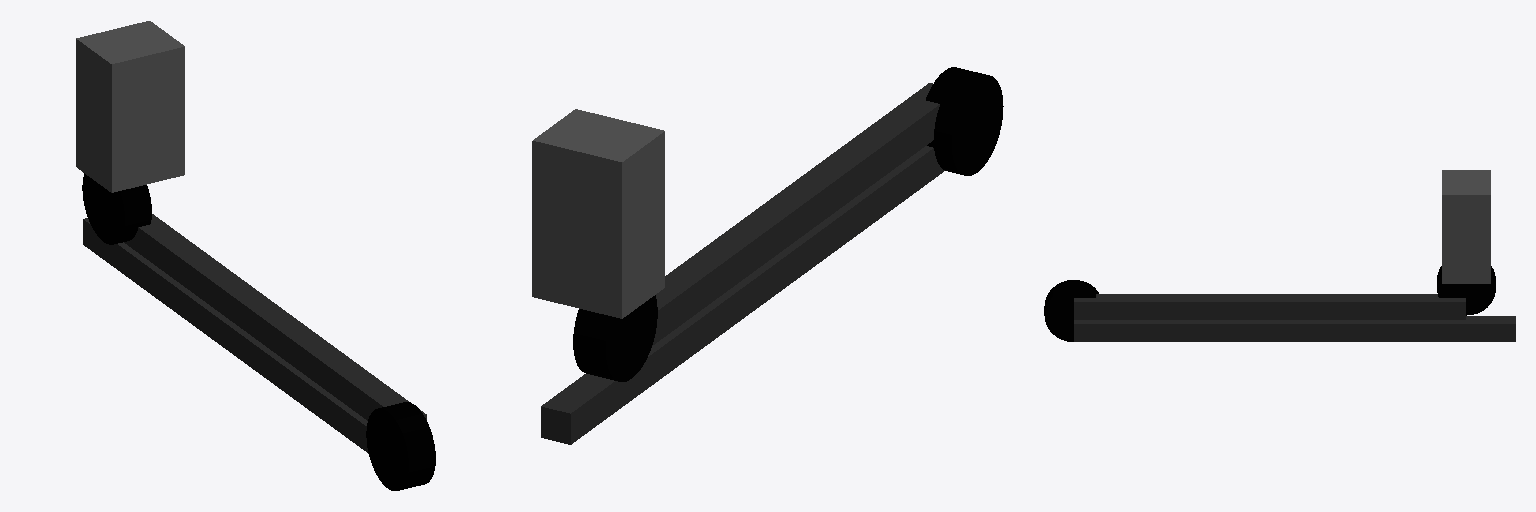
URDF robot description (truck_panda):
<?xml version='1.0' encoding='utf-8'?>
<robot name="truck_panda">


    <link name="base">
      <inertial>
        <origin xyz="0 0 0" rpy="0 0 0" />
        <mass value="4" />
        <inertia ixx="0.4" iyy="0.4" izz="0.4" ixy="0" ixz="0" iyz="0" />
      </inertial>
    </link>
    
    <link name="truck_base">
      <inertial>
        <origin xyz="0 0 0" rpy="0 0 0" />
        <mass value="400" />
        <inertia ixx="40" iyy="40" izz="40" ixy="0" ixz="0" iyz="0" />
      </inertial>
      <visual>
        <geometry>
          <mesh filename="../../../Model/objects/Truck/truck_base.obj"/>
          <!-- <mesh filename="../../../Model/objects/Truck/cubes.obj"/> -->
        </geometry>
      </visual>
    </link>

    <link name="virtual_1">
      <inertial>
        <origin xyz="0 0 0" rpy="0 0 0" />
        <mass value="0.000001" />
        <inertia ixx="0.00001" iyy="0.00001" izz="0.00001" ixy="0" ixz="0" iyz="0" />
      </inertial>
    </link>

    <link name="first_bar">
      <inertial>
        <origin xyz="0 0 0" rpy="0 0 0" />
        <mass value="5" />
        <inertia ixx="1" iyy="1" izz="1" ixy="0" ixz="0" iyz="0" />
      </inertial>
      <visual>
        <origin xyz="0 -2.25 0" rpy="0 0 0" />
        <geometry>
          <box size="0.2 4.5 0.2"/>
        </geometry>
        <material name="material_bar">
          <color rgba="0.2 0.2 0.2 1.0" />
      </material>
      </visual>
      <visual>
        <origin xyz="-0.11 -4.5 0.15" rpy="0 1.57079632679 0" />
        <geometry>
          <cylinder radius="0.30" length="0.22"/>
        </geometry>
        <material name="material_bar">
          <color rgba="0.01 0.01 0.01 1.0" />
      </material>
      </visual>
    </link>

    <link name="second_bar">
      <inertial>
        <origin xyz="0 0 0" rpy="0 0 0" />
        <mass value="5" />
        <inertia ixx="1" iyy="1" izz="1" ixy="0" ixz="0" iyz="0" />
      </inertial>
      <visual>
        <origin xyz="0 2 0.1" rpy="0 0 0" />
        <geometry>
          <box size="0.2 4 0.2"/>
        </geometry>
        <material name="material_bar">
          <color rgba="0.2 0.2 0.2 1.0" />
      </material>
      </visual>
      <visual>
        <origin xyz="-0.11 4 0.3" rpy="0 1.57079632679 0" />
        <geometry>
          <cylinder radius="0.30" length="0.22"/>
        </geometry>
        <material name="material_bar">
          <color rgba="0.01 0.01 0.01 1.0" />
      </material>
      </visual>
    </link>

    <link name="virtual_bucket">
      <inertial>
        <origin xyz="0 0 0" rpy="0 0 0" />
        <mass value="0.0001" />
        <inertia ixx="0.0001" iyy="0.0001" izz="0.0001" ixy="0" ixz="0" iyz="0" />
      </inertial>
    </link>

    <link name="basket">
      <inertial>
        <origin xyz="0 0 0" rpy="0 0 0" />
        <mass value="5" />
        <inertia ixx="1" iyy="1" izz="1" ixy="0" ixz="0" iyz="0" />
      </inertial>
      <visual>
        <origin xyz="0 0 0.7" rpy="0 0 0" />
        <geometry>
          <box size="0.6 0.5 1.0"/>
        </geometry>
        <material name="material_basket">
          <color rgba="0.35 0.35 0.35 1.0" />
      </material>
      </visual>
    </link>

<!--   LEFT ARM     -->

    <link name="left_arm_link1">
      <inertial>
        <origin xyz="0 0 -0.07" rpy="0 -0 0" />
        <mass value="3" />
        <inertia ixx="0.3" iyy="0.3" izz="0.3" ixy="0" ixz="0" iyz="0" />
      </inertial>
      <visual>
        <geometry>
          <mesh filename="../../../Model/meshes/visual/link1.obj"/>
        </geometry>
      </visual>
    </link>
    <link name="left_arm_link2">
      <inertial>
        <origin xyz="0 -0.1 0" rpy="0 -0 0" />
        <mass value="3" />
        <inertia ixx="0.3" iyy="0.3" izz="0.3" ixy="0" ixz="0" iyz="0" />
      </inertial>
      <visual>
        <geometry>
          <mesh filename="../../../Model/meshes/visual/link2.obj"/>
        </geometry>
      </visual>
    </link>
    <link name="left_arm_link3">
      <inertial>
        <origin xyz="0.04 0 -0.05" rpy="0 -0 0" />
        <mass value="2" />
        <inertia ixx="0.2" iyy="0.2" izz="0.2" ixy="0" ixz="0" iyz="0" />
      </inertial>
      <visual>
        <geometry>
          <mesh filename="../../../Model/meshes/visual/link3.obj"/>
        </geometry>
      </visual>
    </link>
    <link name="left_arm_link4">
      <inertial>
        <origin xyz="-0.04 0.05 0" rpy="0 -0 0" />
        <mass value="2" />
        <inertia ixx="0.2" iyy="0.2" izz="0.2" ixy="0" ixz="0" iyz="0" />
      </inertial>
      <visual>
        <geometry>
          <mesh filename="../../../Model/meshes/visual/link4.obj"/>
        </geometry>
      </visual>
    </link>
    <link name="left_arm_link5">
      <inertial>
        <origin xyz="0 0 -0.15" rpy="0 -0 0" />
        <mass value="2" />
        <inertia ixx="0.2" iyy="0.2" izz="0.2" ixy="0" ixz="0" iyz="0" />
      </inertial>
      <visual>
        <geometry>
          <mesh filename="../../../Model/meshes/visual/link5.obj"/>
        </geometry>
      </visual>
    </link>
    <link name="left_arm_link6">
      <inertial>
        <origin xyz="0.06 0 0" rpy="0 -0 0" />
        <mass value="1.5" />
        <inertia ixx="0.1" iyy="0.1" izz="0.1" ixy="0" ixz="0" iyz="0" />
      </inertial>
      <visual>
        <geometry>
          <mesh filename="../../../Model/meshes/visual/link6.obj"/>
        </geometry>
      </visual>
    </link>
    <link name="left_arm_link7">
      <inertial>
        <origin xyz="0 0 0.17" rpy="0 -0 0" />
        <mass value="1.8" />
        <inertia ixx="0.09" iyy="0.05" izz="0.07" ixy="0" ixz="0" iyz="0" />
      </inertial>
      <visual>
        <geometry>
          <mesh filename="../../../Model/meshes/visual/link7.obj"/>
        </geometry>
      </visual>
    </link>

<!--   RIGHT ARM     -->

    <link name="right_arm_link1">
      <inertial>
        <origin xyz="0 0 -0.07" rpy="0 -0 0" />
        <mass value="3" />
        <inertia ixx="0.3" iyy="0.3" izz="0.3" ixy="0" ixz="0" iyz="0" />
      </inertial>
      <visual>
        <geometry>
          <mesh filename="../../../Model/meshes/visual/link1.obj"/>
        </geometry>
      </visual>
    </link>
    <link name="right_arm_link2">
      <inertial>
        <origin xyz="0 -0.1 0" rpy="0 -0 0" />
        <mass value="3" />
        <inertia ixx="0.3" iyy="0.3" izz="0.3" ixy="0" ixz="0" iyz="0" />
      </inertial>
      <visual>
        <geometry>
          <mesh filename="../../../Model/meshes/visual/link2.obj"/>
        </geometry>
      </visual>
    </link>
    <link name="right_arm_link3">
      <inertial>
        <origin xyz="0.04 0 -0.05" rpy="0 -0 0" />
        <mass value="2" />
        <inertia ixx="0.2" iyy="0.2" izz="0.2" ixy="0" ixz="0" iyz="0" />
      </inertial>
      <visual>
        <geometry>
          <mesh filename="../../../Model/meshes/visual/link3.obj"/>
        </geometry>
      </visual>
    </link>
    <link name="right_arm_link4">
      <inertial>
        <origin xyz="-0.04 0.05 0" rpy="0 -0 0" />
        <mass value="2" />
        <inertia ixx="0.2" iyy="0.2" izz="0.2" ixy="0" ixz="0" iyz="0" />
      </inertial>
      <visual>
        <geometry>
          <mesh filename="../../../Model/meshes/visual/link4.obj"/>
        </geometry>
      </visual>
    </link>
    <link name="right_arm_link5">
      <inertial>
        <origin xyz="0 0 -0.15" rpy="0 -0 0" />
        <mass value="2" />
        <inertia ixx="0.2" iyy="0.2" izz="0.2" ixy="0" ixz="0" iyz="0" />
      </inertial>
      <visual>
        <geometry>
          <mesh filename="../../../Model/meshes/visual/link5.obj"/>
        </geometry>
      </visual>
    </link>
    <link name="right_arm_link6">
      <inertial>
        <origin xyz="0.06 0 0" rpy="0 -0 0" />
        <mass value="1.5" />
        <inertia ixx="0.1" iyy="0.1" izz="0.1" ixy="0" ixz="0" iyz="0" />
      </inertial>
      <visual>
        <geometry>
          <mesh filename="../../../Model/meshes/visual/link6.obj"/>
        </geometry>
      </visual>
    </link>
    <link name="right_arm_link7">
      <inertial>
        <origin xyz="0 0 0.17" rpy="0 -0 0" />
        <mass value="1.8" />
        <inertia ixx="0.09" iyy="0.05" izz="0.07" ixy="0" ixz="0" iyz="0" />
      </inertial>
      <visual>
        <geometry>
          <mesh filename="../../../Model/meshes/visual/link7.obj"/>
        </geometry>
      </visual>
    </link>


<!--    JOINTS     -->
    <joint name="driving" type="prismatic">
      <safety_controller k_position="100.0" k_velocity="40.0" soft_lower_limit="-2.8973" soft_upper_limit="2.8973"/>
      <origin rpy="0 0 0" xyz="0 0 0"/>
      <parent link="base"/>
      <child link="truck_base"/>
      <axis xyz="0 1 0"/>
      <calibration rising="10" />
      <limit effort="87" lower="-2.8973" upper="2.8973" velocity="2.1750"/>
    </joint>

    <joint name="r1_truck" type="revolute">
      <origin rpy="0 0 0" xyz="2.85 6.35 2.4"/>
      <parent link="truck_base"/>
      <child link="virtual_1"/>
      <axis xyz="0 0 1"/>
      <limit effort="87" lower="-2.8973" upper="2.8973" velocity="2.1750"/>
    </joint>

    <joint name="r2_truck" type="revolute">
      <origin rpy="0 0 0" xyz="0 0 0"/>
      <parent link="virtual_1"/>
      <child link="first_bar"/>
      <axis xyz="1 0 0"/>
      <calibration falling="-5.0" />
      <limit effort="87" lower="-2.8973" upper="2.8973" velocity="2.1750"/>
    </joint>

    <joint name="r3_truck" type="revolute">
      <origin rpy="0 0 0" xyz="0 -4.5 0.15"/>
      <parent link="first_bar"/>
      <child link="second_bar"/>
      <axis xyz="1 0 0"/>
      <!-- <calibration falling="5.0" /> -->
      <limit effort="87" lower="-2.8973" upper="2.8973" velocity="2.1750"/>
    </joint>

    <joint name="r4_truck" type="revolute">
      <origin rpy="0 0 0" xyz="0 4 0.3"/>
      <parent link="second_bar"/>
      <child link="virtual_bucket"/>
      <axis xyz="1 0 0"/>
      <calibration falling="5.0" />
      <limit effort="87" lower="-2.8973" upper="2.8973" velocity="2.1750"/>
    </joint>

    <joint name="r5_truck" type="revolute">
      <origin rpy="0 0 0" xyz="0 0 0"/>
      <parent link="virtual_bucket"/>
      <child link="basket"/>
      <axis xyz="0 0 1"/>
      <calibration falling="5.0" />
      <limit effort="87" lower="-2.8973" upper="2.8973" velocity="2.1750"/>
    </joint>

<!--   LEFT ARM JOINT     -->

    <joint name="left_arm_joint1" type="revolute">
      <safety_controller k_position="100.0" k_velocity="40.0" soft_lower_limit="-2.8973" soft_upper_limit="2.8973"/>
      <origin rpy="-1.57079632679 0 -1.57079632679" xyz="0.5 0.0 0.9"/>
      <parent link="basket"/>
      <child link="left_arm_link1"/>
      <axis xyz="0 0 1"/>
      <limit effort="87" lower="-2.8973" upper="2.8973" velocity="2.1750"/>
    </joint>
    <joint name="left_arm_joint2" type="revolute">
      <safety_controller k_position="100.0" k_velocity="40.0" soft_lower_limit="-1.7628" soft_upper_limit="1.7628"/>
      <origin rpy="-1.57079632679 0 0" xyz="0 0 0"/>
      <parent link="left_arm_link1"/>
      <child link="left_arm_link2"/>
      <axis xyz="0 0 1"/>
      <calibration falling="15.0" />
      <limit effort="87" lower="-1.7628" upper="1.7628" velocity="2.1750"/>
    </joint>
    <joint name="left_arm_joint3" type="revolute">
      <safety_controller k_position="100.0" k_velocity="40.0" soft_lower_limit="-2.8973" soft_upper_limit="2.8973"/>
      <origin rpy="1.57079632679 0 0" xyz="0 -0.316 0"/>
      <parent link="left_arm_link2"/>
      <child link="left_arm_link3"/>
      <axis xyz="0 0 1"/>
      <limit effort="87" lower="-2.8973" upper="2.8973" velocity="2.1750"/>
    </joint>
    <joint name="left_arm_joint4" type="revolute">
      <safety_controller k_position="100.0" k_velocity="40.0" soft_lower_limit="-3.0718" soft_upper_limit="-0.0698"/>
      <origin rpy="1.57079632679 0 0" xyz="0.0825 0 0"/>
      <parent link="left_arm_link3"/>
      <child link="left_arm_link4"/>
      <axis xyz="0 0 1"/>
      <calibration falling="-95.0" />
      <limit effort="87" lower="-3.0718" upper="-0.0698" velocity="2.1750"/>
    </joint>
    <joint name="left_arm_joint5" type="revolute">
      <safety_controller k_position="100.0" k_velocity="40.0" soft_lower_limit="-2.8973" soft_upper_limit="2.8973"/>
      <origin rpy="-1.57079632679 0 0" xyz="-0.0825 0.384 0"/>
      <parent link="left_arm_link4"/>
      <child link="left_arm_link5"/>
      <axis xyz="0 0 1"/>
      <limit effort="12" lower="-2.8973" upper="2.8973" velocity="2.6100"/>
    </joint>
    <joint name="left_arm_joint6" type="revolute">
      <safety_controller k_position="100.0" k_velocity="40.0" soft_lower_limit="-0.0175" soft_upper_limit="3.7525"/>
      <origin rpy="1.57079632679 0 0" xyz="0 0 0"/>
      <parent link="left_arm_link5"/>
      <child link="left_arm_link6"/>
      <axis xyz="0 0 1"/>
      <calibration falling="125.0" />
      <limit effort="12" lower="-0.0175" upper="3.7525" velocity="2.6100"/>
    </joint>
    <joint name="left_arm_joint7" type="revolute">
      <safety_controller k_position="100.0" k_velocity="40.0" soft_lower_limit="-2.8973" soft_upper_limit="2.8973"/>
      <origin rpy="1.57079632679 0 0" xyz="0.088 0 0"/>
      <parent link="left_arm_link6"/>
      <child link="left_arm_link7"/>
      <axis xyz="0 0 1"/>
      <limit effort="12" lower="-2.8973" upper="2.8973" velocity="2.6100"/>
    </joint>

<!--   RIGHT ARM JOINT     -->

    <joint name="right_arm_joint1" type="revolute">
      <safety_controller k_position="100.0" k_velocity="40.0" soft_lower_limit="-2.8973" soft_upper_limit="2.8973"/>
      <origin rpy="1.57079632679 0 -1.57079632679" xyz="-0.5 0.0 0.9"/>
      <parent link="basket"/>
      <child link="right_arm_link1"/>
      <axis xyz="0 0 1"/>
      <limit effort="87" lower="-2.8973" upper="2.8973" velocity="2.1750"/>
    </joint>
    <joint name="right_arm_joint2" type="revolute">
      <safety_controller k_position="100.0" k_velocity="40.0" soft_lower_limit="-1.7628" soft_upper_limit="1.7628"/>
      <origin rpy="-1.57079632679 0 0" xyz="0 0 0"/>
      <parent link="right_arm_link1"/>
      <child link="right_arm_link2"/>
      <axis xyz="0 0 1"/>
      <calibration falling="15.0" />
      <limit effort="87" lower="-1.7628" upper="1.7628" velocity="2.1750"/>
    </joint>
    <joint name="right_arm_joint3" type="revolute">
      <safety_controller k_position="100.0" k_velocity="40.0" soft_lower_limit="-2.8973" soft_upper_limit="2.8973"/>
      <origin rpy="1.57079632679 0 0" xyz="0 -0.316 0"/>
      <parent link="right_arm_link2"/>
      <child link="right_arm_link3"/>
      <axis xyz="0 0 1"/>
      <limit effort="87" lower="-2.8973" upper="2.8973" velocity="2.1750"/>
    </joint>
    <joint name="right_arm_joint4" type="revolute">
      <safety_controller k_position="100.0" k_velocity="40.0" soft_lower_limit="-3.0718" soft_upper_limit="-0.0698"/>
      <origin rpy="1.57079632679 0 0" xyz="0.0825 0 0"/>
      <parent link="right_arm_link3"/>
      <child link="right_arm_link4"/>
      <axis xyz="0 0 1"/>
      <calibration falling="-95.0" />
      <limit effort="87" lower="-3.0718" upper="-0.0698" velocity="2.1750"/>
    </joint>
    <joint name="right_arm_joint5" type="revolute">
      <safety_controller k_position="100.0" k_velocity="40.0" soft_lower_limit="-2.8973" soft_upper_limit="2.8973"/>
      <origin rpy="-1.57079632679 0 0" xyz="-0.0825 0.384 0"/>
      <parent link="right_arm_link4"/>
      <child link="right_arm_link5"/>
      <axis xyz="0 0 1"/>
      <limit effort="12" lower="-2.8973" upper="2.8973" velocity="2.6100"/>
    </joint>
    <joint name="right_arm_joint6" type="revolute">
      <safety_controller k_position="100.0" k_velocity="40.0" soft_lower_limit="-0.0175" soft_upper_limit="3.7525"/>
      <origin rpy="1.57079632679 0 0" xyz="0 0 0"/>
      <parent link="right_arm_link5"/>
      <child link="right_arm_link6"/>
      <axis xyz="0 0 1"/>
      <calibration falling="125.0" />
      <limit effort="12" lower="-0.0175" upper="3.7525" velocity="2.6100"/>
    </joint>
    <joint name="right_arm_joint7" type="revolute">
      <safety_controller k_position="100.0" k_velocity="40.0" soft_lower_limit="-2.8973" soft_upper_limit="2.8973"/>
      <origin rpy="1.57079632679 0 0" xyz="0.088 0 0"/>
      <parent link="right_arm_link6"/>
      <child link="right_arm_link7"/>
      <axis xyz="0 0 1"/>
      <limit effort="12" lower="-2.8973" upper="2.8973" velocity="2.6100"/>
    </joint>


</robot>

--- What the picture shows (computed from the rendered views, not written in the file) ---
The picture shows the robot from 3 angles, left to right: view 1: azimuth 30°, elevation 25°; view 2: azimuth 150°, elevation 25°; view 3: azimuth 270°, elevation 25°; orthographic projection.
Model truck_panda with 21 links and 20 joints (19 revolute, 1 prismatic), rooted at base, posed all joints at 0 but 2 set to mid-range because 0 is outside their limits (left_arm_joint4 = -1.57, right_arm_joint4 = -1.57).
Visible links, largest first — view 1: basket, second_bar, first_bar; view 2: basket, first_bar, second_bar; view 3: first_bar, second_bar, basket.
Link boxes in pixels (x1,y1,x2,y2): basket: [76, 21, 184, 192]; second_bar: [82, 173, 426, 420]; first_bar: [83, 218, 435, 490]; basket: [532, 109, 664, 318]; first_bar: [541, 67, 1003, 444]; second_bar: [573, 83, 939, 381]; first_bar: [1044, 280, 1515, 341]; second_bar: [1074, 266, 1495, 319]; basket: [1442, 170, 1490, 283].
Size in the robot's own frame: 0.6 by 4.8 by 1.8 metres.
Geometry: only primitive shapes (box / cylinder / sphere) drawn; not drawn: 15 mesh visuals (reference in a form the renderer does not follow).